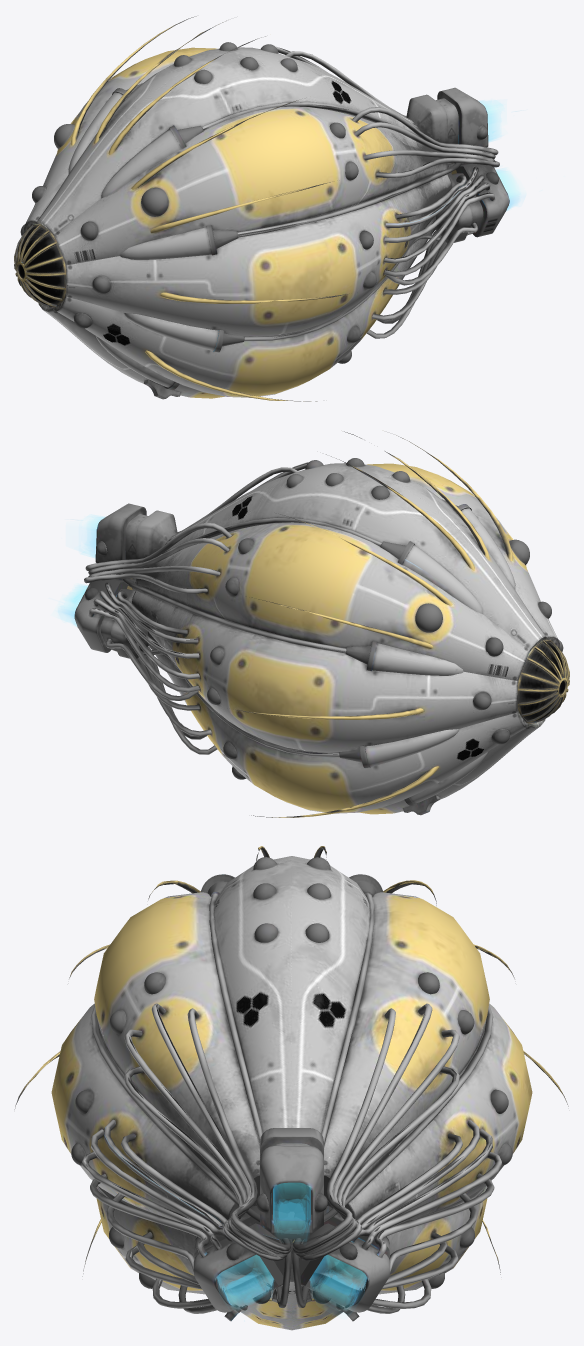
The model's file is nacelle-spatiale-personnelle.glb.
3 views of the same model, one above another, from view 1: azimuth 30°, elevation 25°; view 2: azimuth 150°, elevation 25°; view 3: azimuth 270°, elevation 25° (orthographic). The views are drawn at different scales.
Visible parts, largest first — view 1: Sphere.152_copy_low; view 2: Sphere.152_copy_low; view 3: Sphere.152_copy_low.
Part boxes in pixels (x1,y1,x2,y2): Sphere.152_copy_low: (14, 16, 520, 401); Sphere.152_copy_low: (58, 431, 569, 817); Sphere.152_copy_low: (14, 846, 568, 1330).
Bounding box in the file's own units: 1.83 × 1.18 × 1.27.
Materials: 2 (2 with a texture image).
